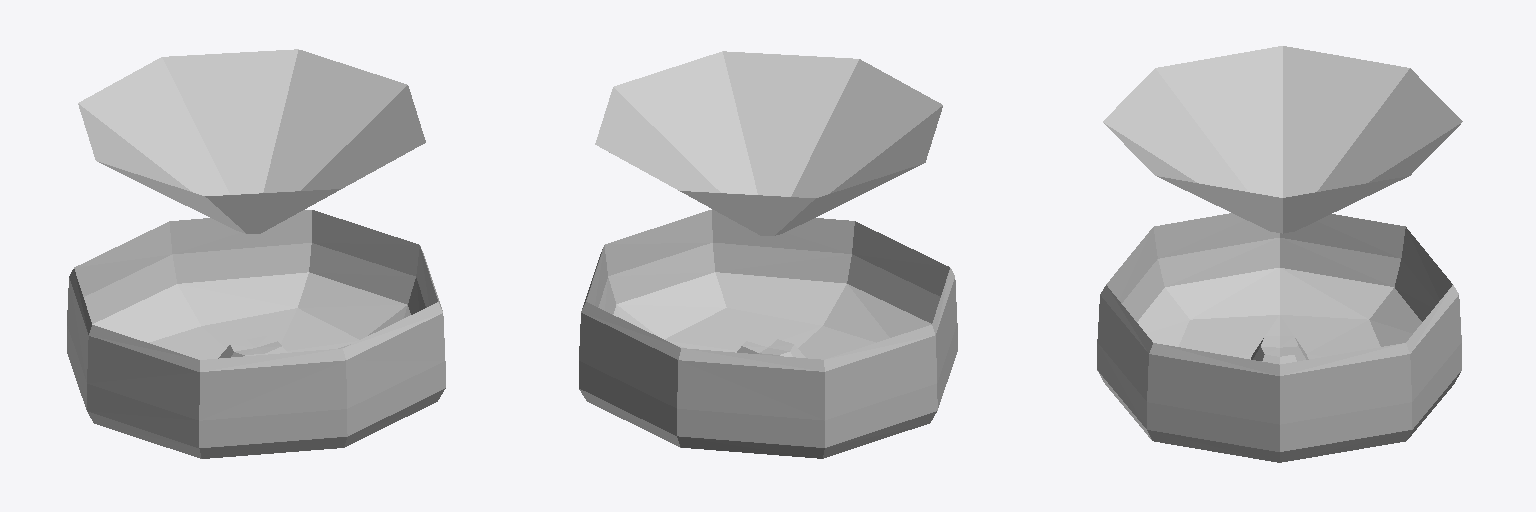
File: Filter.obj
The picture shows the model from 3 angles: view 1: azimuth 30°, elevation 25°; view 2: azimuth 150°, elevation 25°; view 3: azimuth 270°, elevation 25°; orthographic projection.
Visible parts, largest first — view 1: Circle_Circle.001; view 2: Circle_Circle.001; view 3: Circle_Circle.001.
Part boxes in pixels (x1,y1,x2,y2): Circle_Circle.001: (67,49,445,458); Circle_Circle.001: (579,51,957,458); Circle_Circle.001: (1097,46,1462,462).
Bounding box in the file's own units: 4.94 × 3.7 × 4.62.